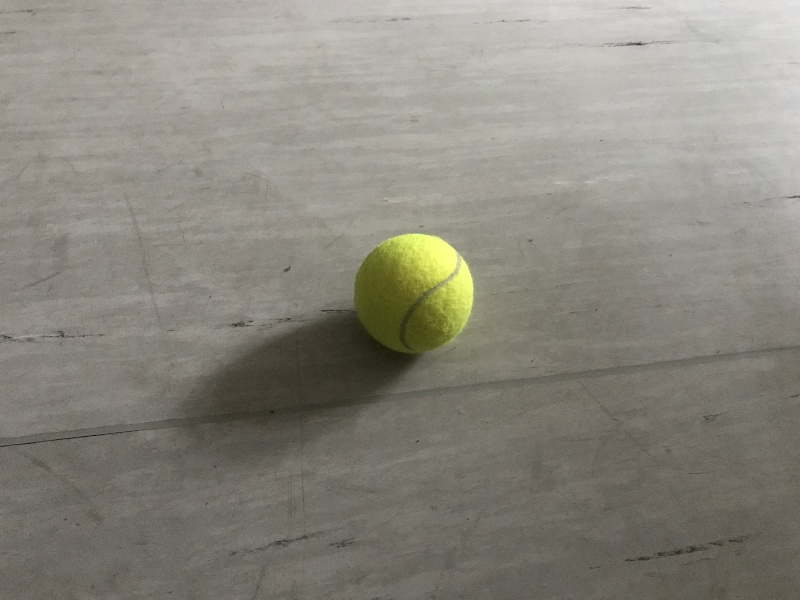Tennisball: (343, 227, 485, 366)
